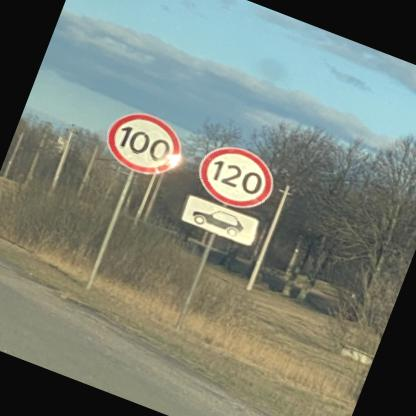speedlimit: (95, 101, 189, 183), (189, 136, 279, 214)
